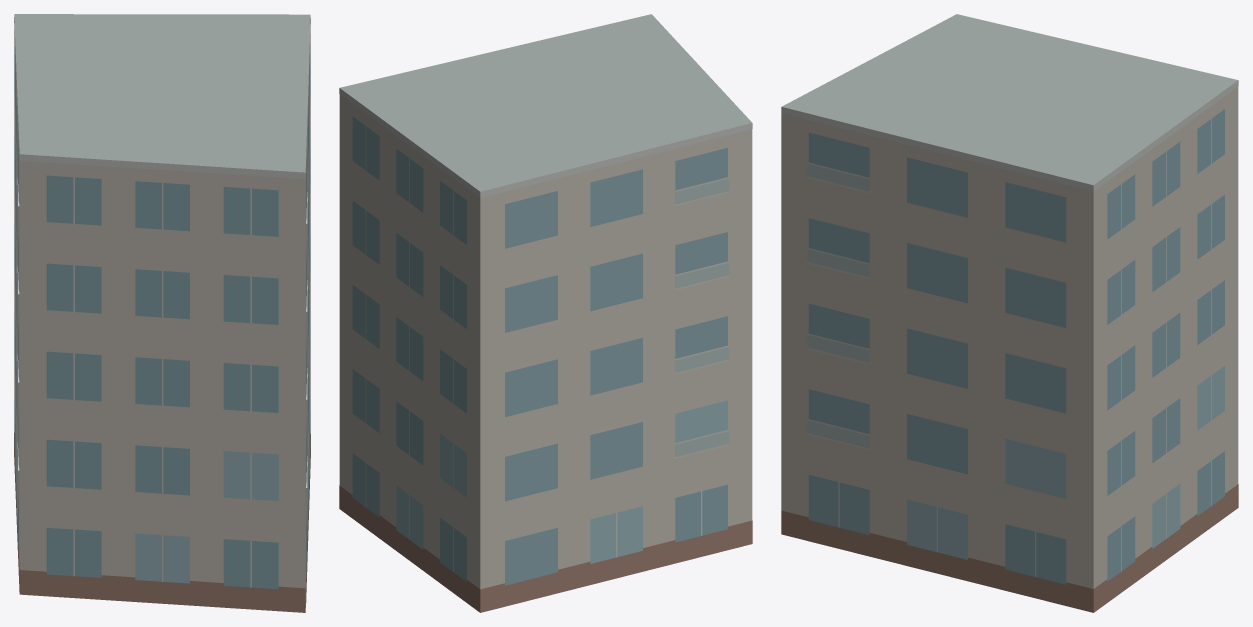
The model's file is survey-upis-33034811.glb.
3 renders of one model, left to right at view 1: azimuth 30°, elevation 25°; view 2: azimuth 150°, elevation 25°; view 3: azimuth 270°, elevation 25°, orthographic. The views are drawn at different scales.
Visible parts, largest first — view 1: survey-upis-33034811.tmp; view 2: survey-upis-33034811.tmp; view 3: survey-upis-33034811.tmp.
Boxes of the visible parts, box(x1,y1,x2,y2) form: survey-upis-33034811.tmp: box(14, 14, 310, 612); survey-upis-33034811.tmp: box(339, 14, 752, 612); survey-upis-33034811.tmp: box(781, 14, 1238, 612).
Bounding box in the file's own units: 14.27 × 16.6 × 16.09.
